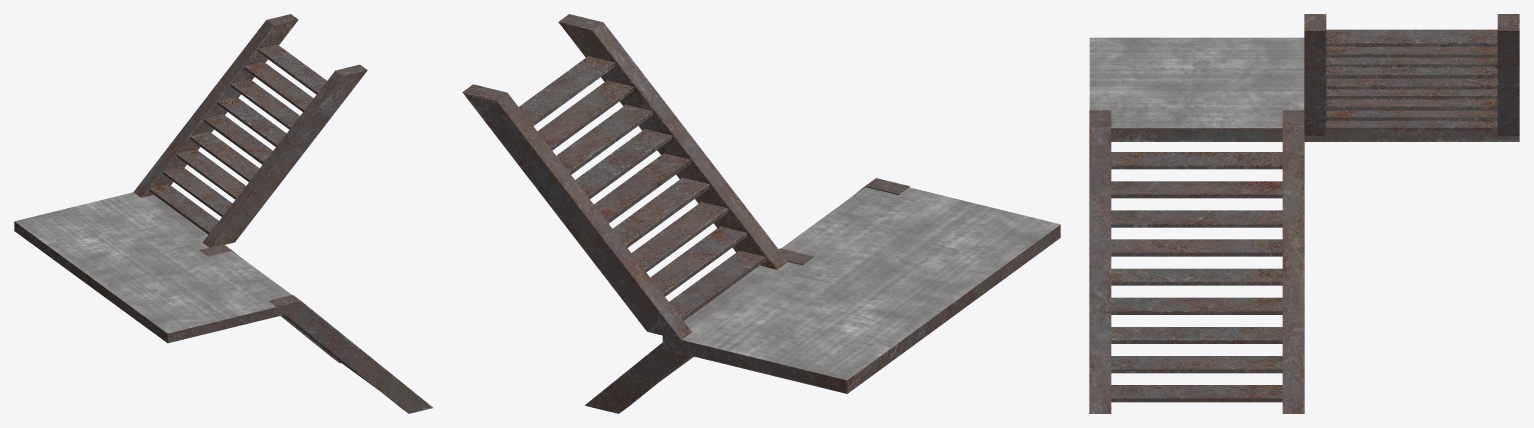
Rendered from armored_stairs_u_shape_textured.glb.
3 renders of one model, left to right at view 1: azimuth 30°, elevation 25°; view 2: azimuth 150°, elevation 25°; view 3: azimuth 270°, elevation 25°, orthographic. The views are drawn at different scales.
Visible parts, largest first — view 1: Cube.001; view 2: Cube.001; view 3: Cube.001.
Part boxes in pixels (bbox=[...]): Cube.001: bbox=[14, 14, 432, 413]; Cube.001: bbox=[462, 14, 1060, 413]; Cube.001: bbox=[1089, 14, 1519, 413].
Size of the model in its own units: 2.08 by 2.01 by 2.
1 material, 1 textured.
